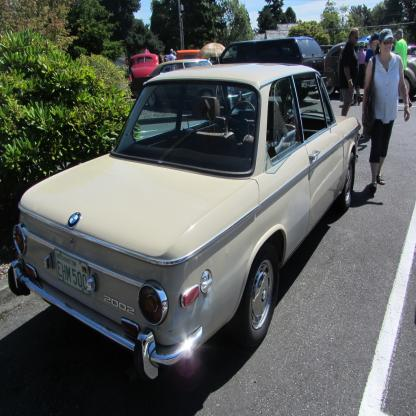Car: (8, 63, 363, 383), (327, 45, 416, 94), (218, 42, 326, 73), (151, 61, 212, 75), (133, 51, 158, 76)
